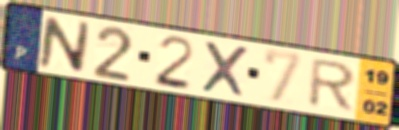2: (92, 24, 135, 85), (153, 34, 196, 92)
7: (261, 46, 307, 106)
N: (36, 14, 93, 76)
R: (304, 57, 360, 114)
X: (199, 38, 251, 100)
